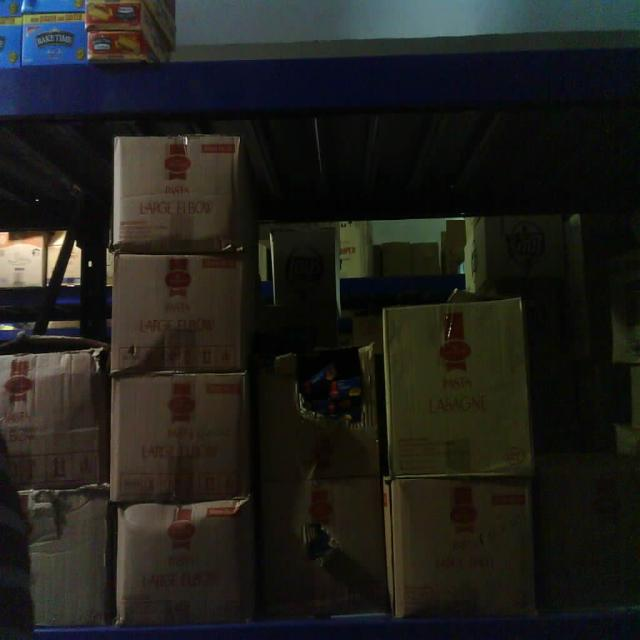box: (382, 304, 534, 476), (392, 473, 538, 613), (108, 370, 250, 503), (112, 248, 247, 370), (118, 499, 248, 624), (0, 346, 106, 493), (114, 131, 241, 253), (0, 486, 110, 626)
